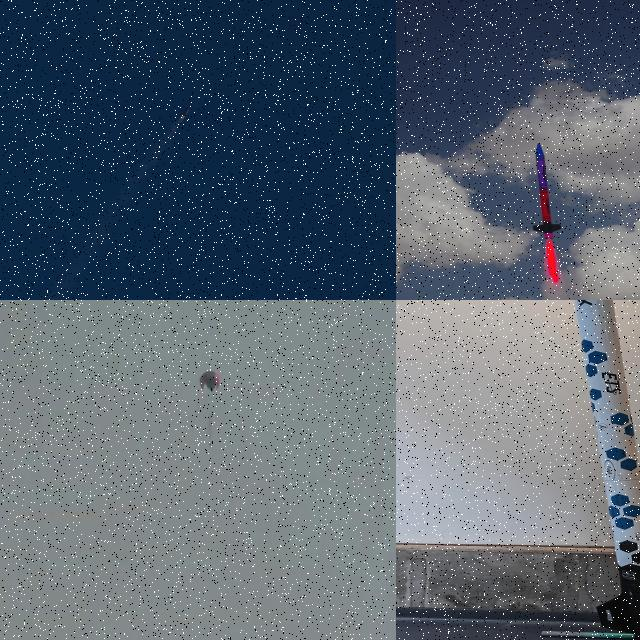Rocket: (574, 300, 640, 640), (532, 143, 562, 239), (178, 108, 190, 119), (208, 415, 212, 448)
